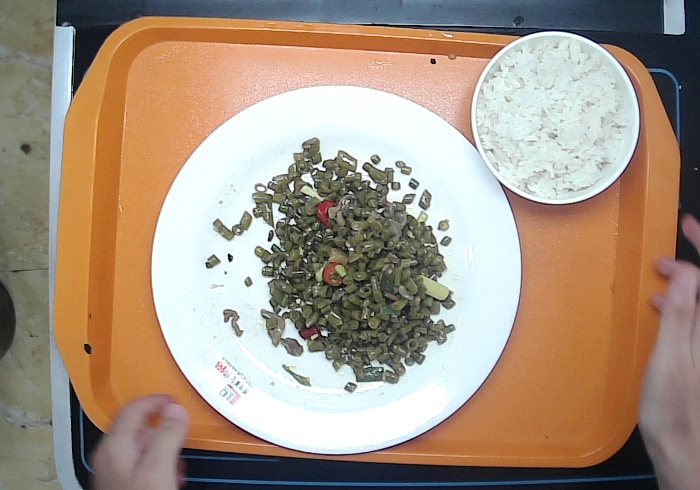ZNLD-Da_Yuan_Pan: (150, 84, 525, 460)
ZNLD-Fan_Wan: (473, 28, 643, 206)
